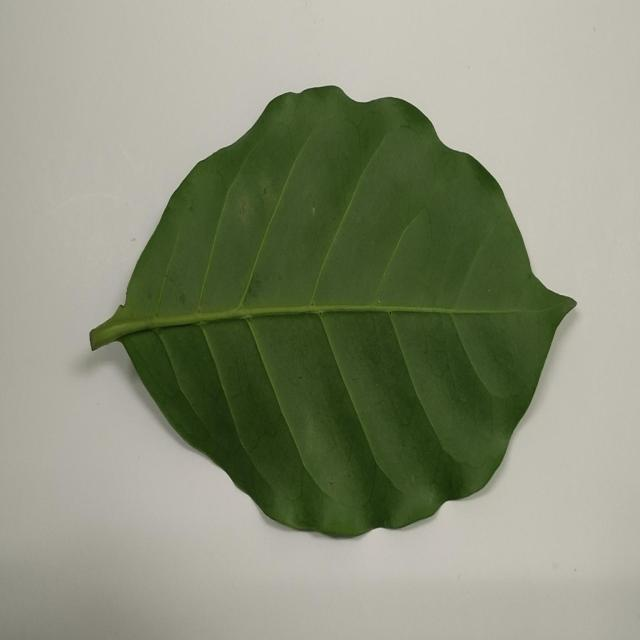Sanas: (88, 86, 578, 542)
